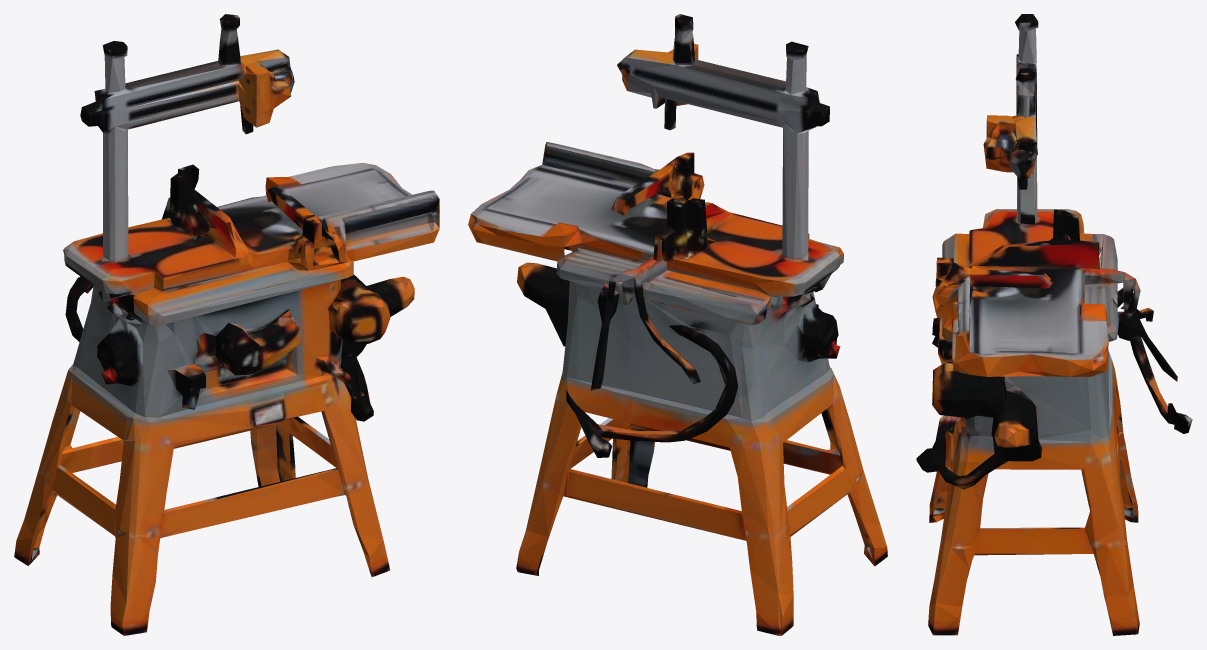
Rendered from table_saw.glb.
3 views of the same model, side by side, from view 1: azimuth 30°, elevation 25°; view 2: azimuth 150°, elevation 25°; view 3: azimuth 270°, elevation 25° (orthographic). The views are drawn at different scales.
Parts seen in each view (by area): view 1: textured_mesh.obj; view 2: textured_mesh.obj; view 3: textured_mesh.obj.
Boxes of the visible parts, <box> form: textured_mesh.obj: <box>14,14,439,635</box>; textured_mesh.obj: <box>468,14,887,635</box>; textured_mesh.obj: <box>916,14,1192,635</box>.
Size of the model in its own units: 0.7872 by 1.2 by 0.5843.
Materials: 1 (1 with a texture image).
